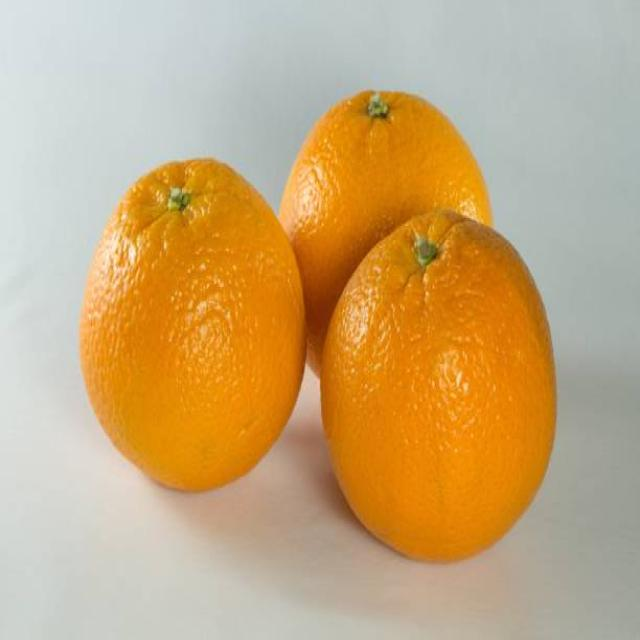Ripe: (316, 199, 560, 561), (77, 161, 310, 494), (280, 86, 494, 220)
